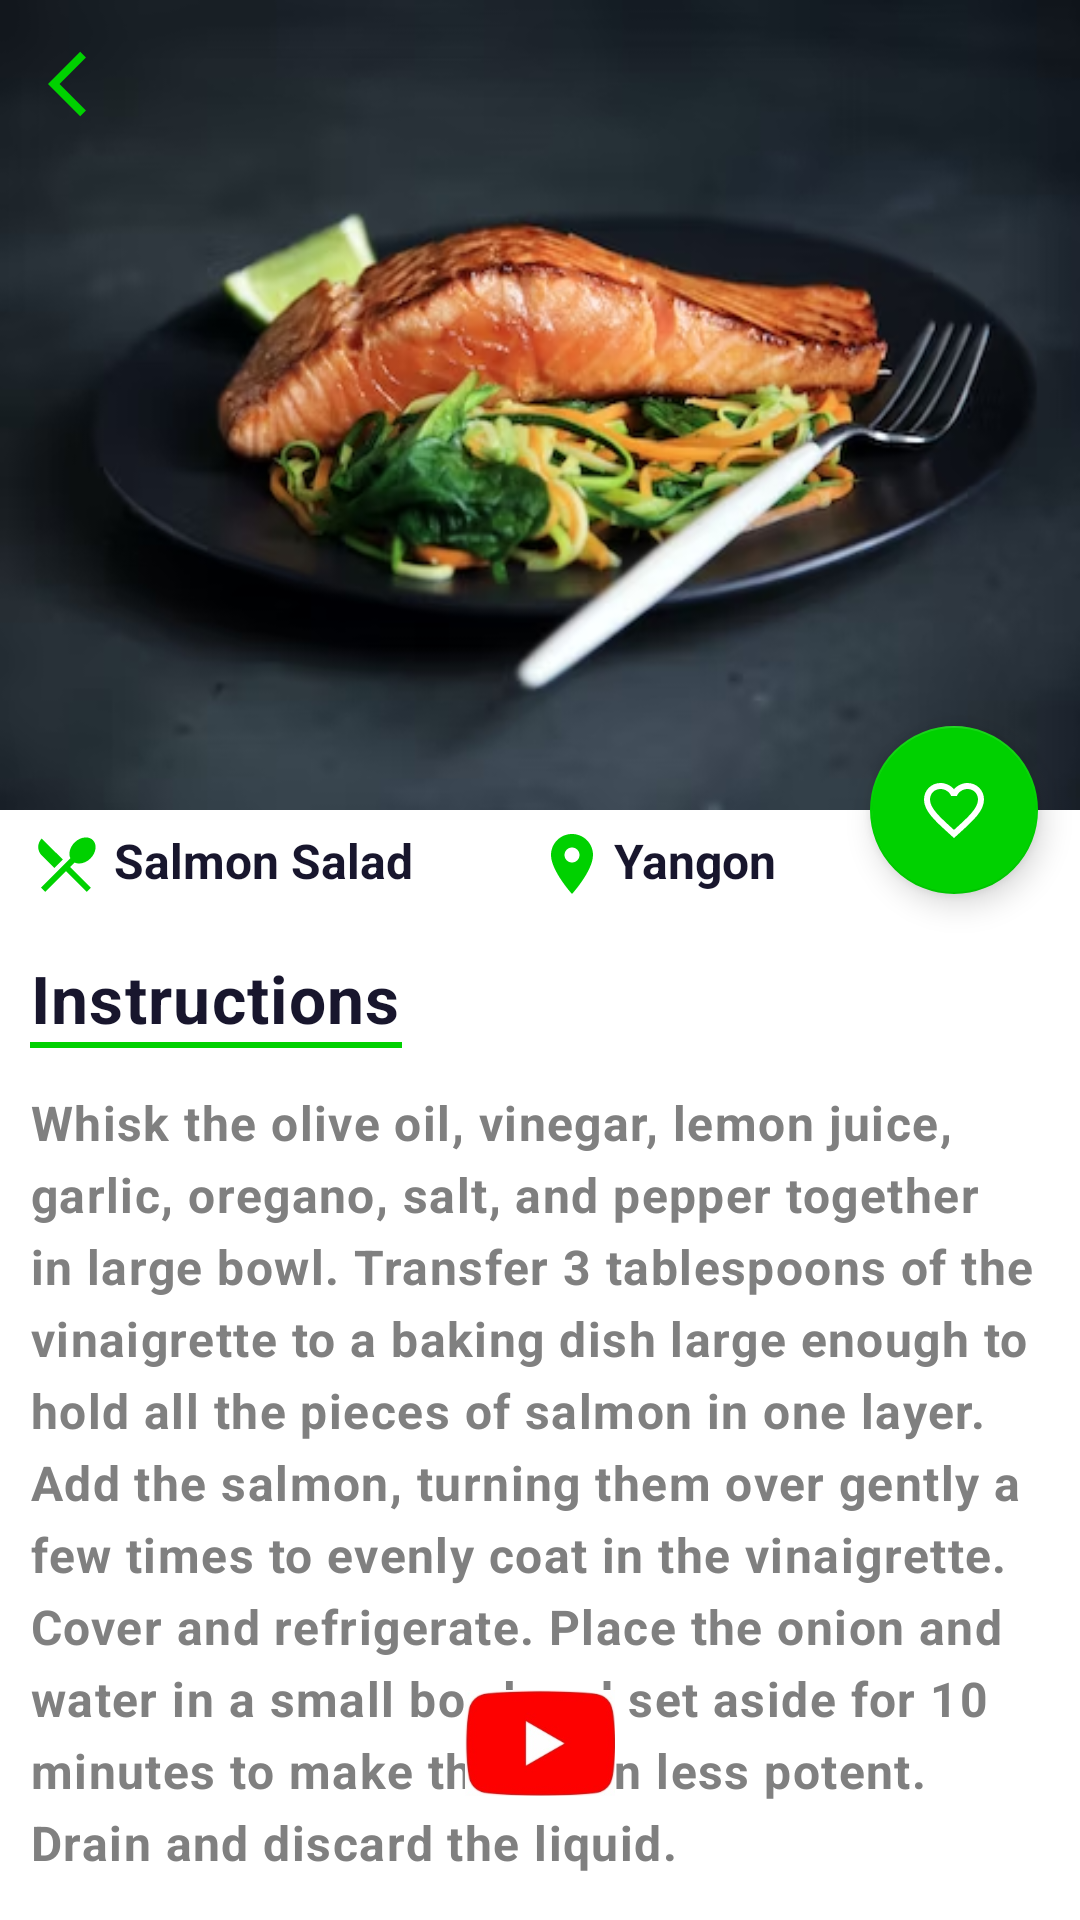

Icons on this 1080×1920 Android screen, each with the point to tap as point (x, y):
arrow back: point (67, 84)
favorite border: point (954, 810)
